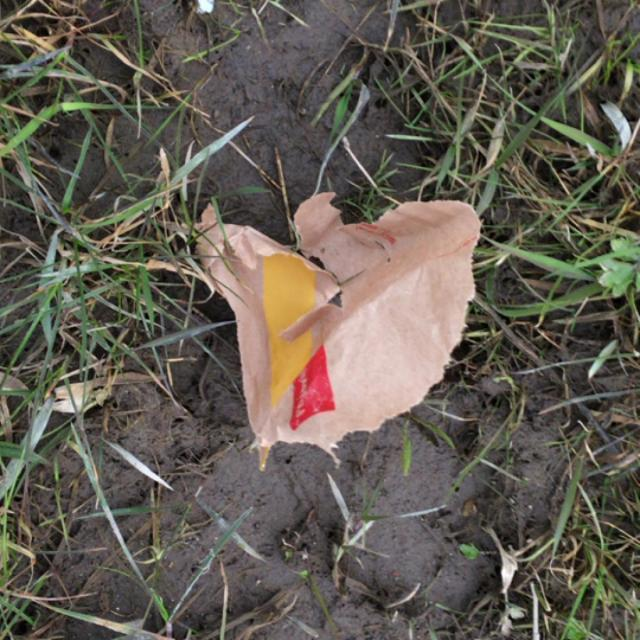Paper: (188, 188, 482, 474)
